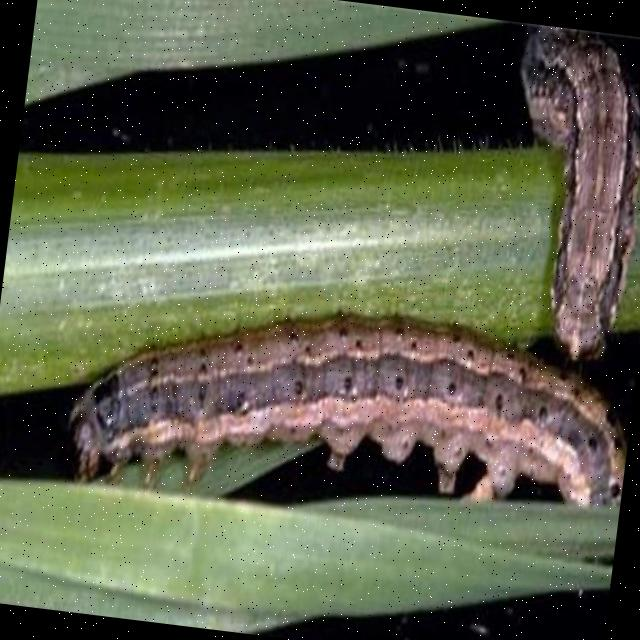worm: (60, 274, 640, 550), (486, 27, 640, 367)
